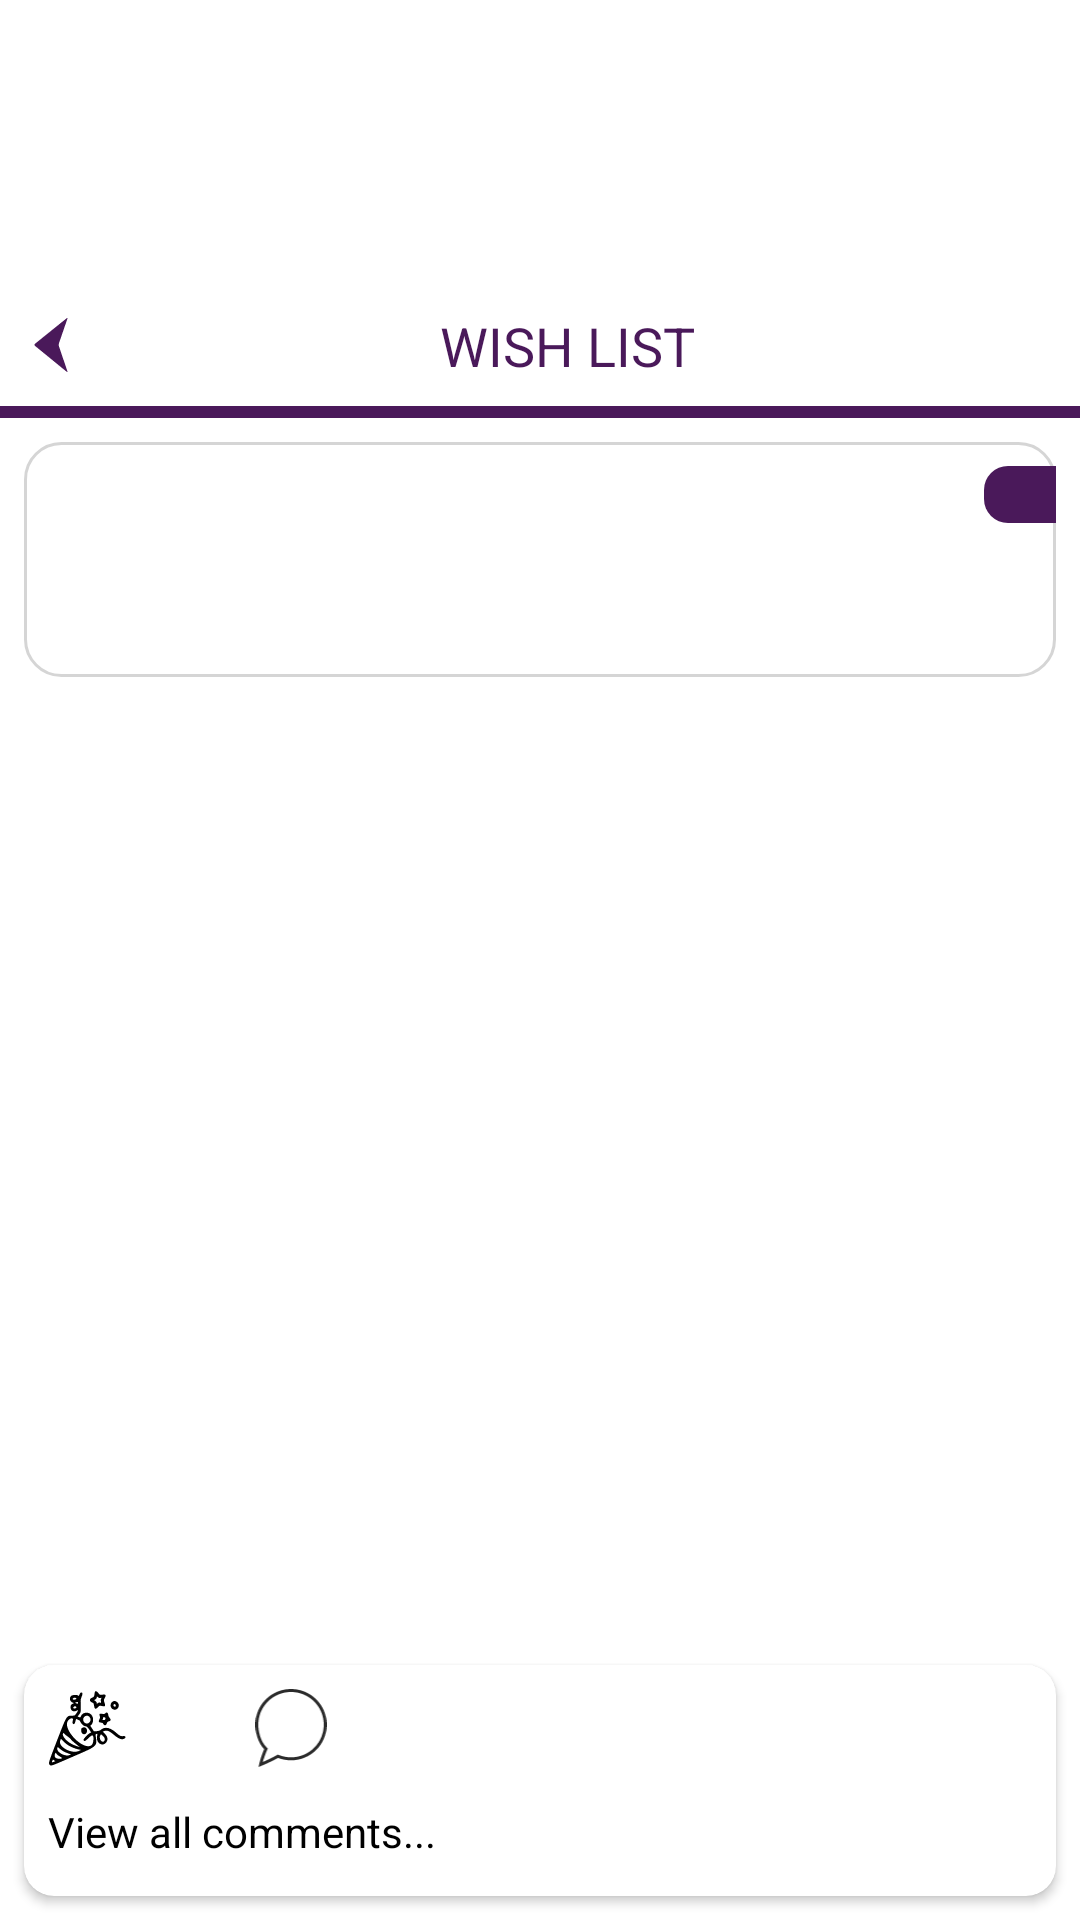

Locate icon controls on the screen. Image size 1080px x 1920px, boxes as (x1, y1, x2, y2).
yeay: (49, 1691, 126, 1766)
